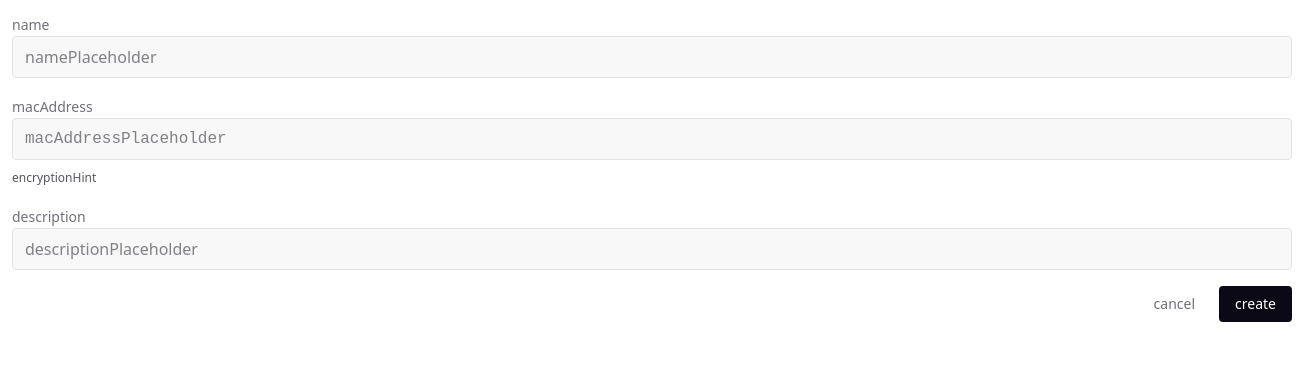
Scenario: DeviceForm › falls back to an inline agent-page link when the key vanishes mid-form
In the field with placeholder "namePlaceholder": coordinates (652, 57) [12,36,1292,78], type "NAS"
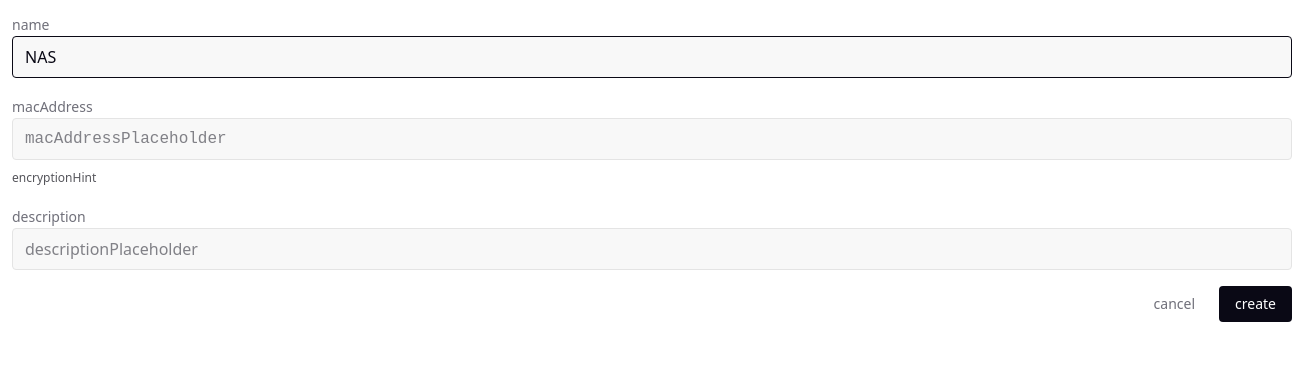
In the field with placeholder "macAddressPlaceholder": coordinates (652, 139) [12,118,1292,160], type "AA:BB:CC:DD:EE:FF"
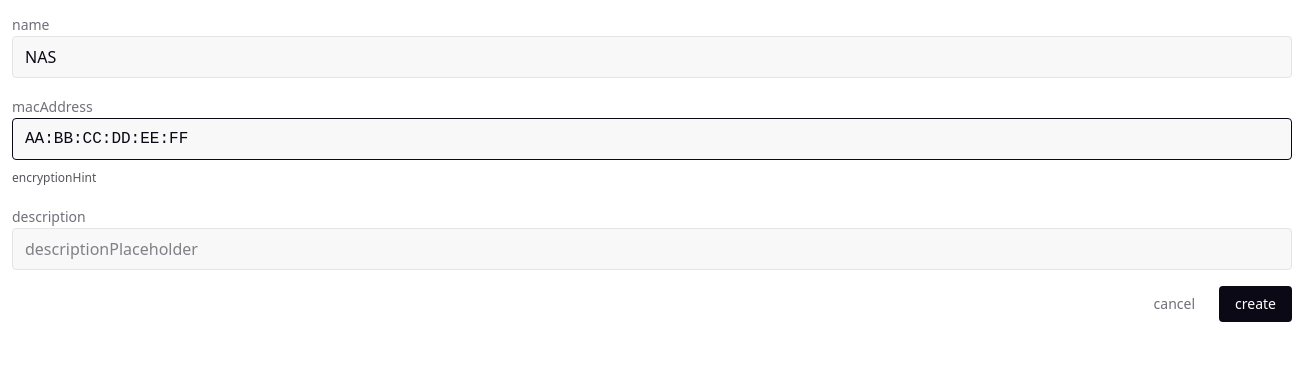
Click the button "create": coordinates (1256, 304) [1219,286,1292,322]
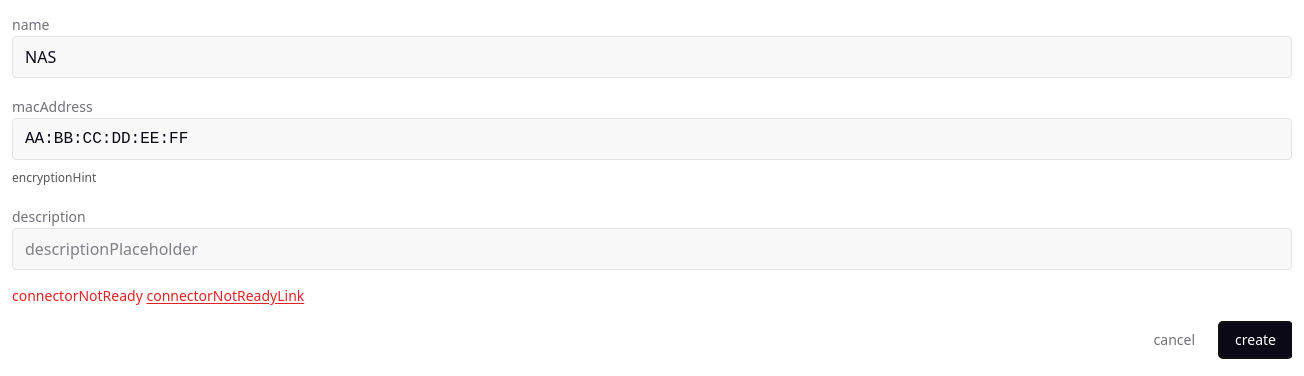
Result: the text "connectorNotReady" is shown at [12,286,143,305]
